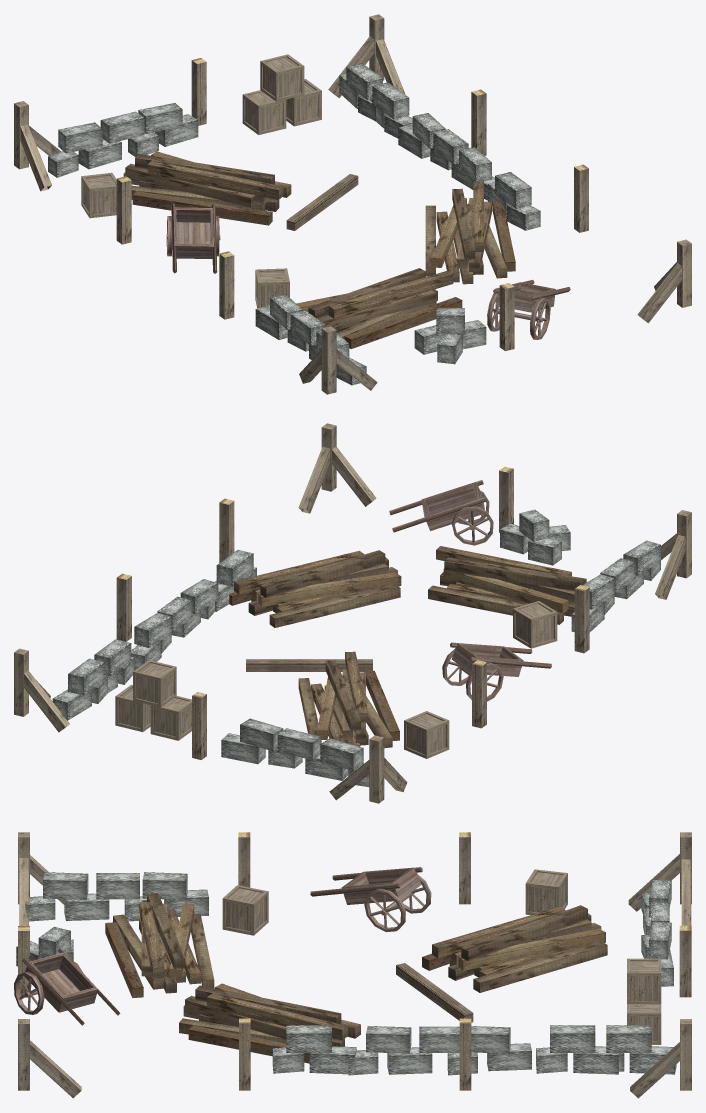
Rendered from foundation_4x6.glb.
3 renders of one model, top to bottom at view 1: azimuth 30°, elevation 25°; view 2: azimuth 150°, elevation 25°; view 3: azimuth 270°, elevation 25°, orthographic. The views are drawn at different scales.
Visible parts, largest first — view 1: foundation_4x6_part24, foundation_4x6_part15, foundation_4x6_part16, foundation_4x6_part26, foundation_4x6_part20, foundation_4x6_part27, foundation_4x6_part18, foundation_4x6_part28, foundation_4x6_part19, foundation_4x6_part3, foundation_4x6_part2, foundation_4x6_part29 (+16 smaller); view 2: foundation_4x6_part16, foundation_4x6_part15, foundation_4x6_part24, foundation_4x6_part26, foundation_4x6_part20, foundation_4x6_part27, foundation_4x6_part19, foundation_4x6_part18, foundation_4x6_part28, foundation_4x6_part4, foundation_4x6_part21, foundation_4x6_part2 (+16 smaller); view 3: foundation_4x6_part24, foundation_4x6_part15, foundation_4x6_part16, foundation_4x6_part20, foundation_4x6_part27, foundation_4x6_part18, foundation_4x6_part19, foundation_4x6_part29, foundation_4x6_part25, foundation_4x6_part26, foundation_4x6_part21, foundation_4x6_part22 (+15 smaller).
Boxes of the visible parts, <box> form: foundation_4x6_part24: <box>123,151,291,225</box>; foundation_4x6_part15: <box>296,268,462,348</box>; foundation_4x6_part16: <box>425,181,515,284</box>; foundation_4x6_part26: <box>48,103,198,177</box>; foundation_4x6_part20: <box>398,113,494,200</box>; foundation_4x6_part27: <box>255,294,366,385</box>; foundation_4x6_part18: <box>166,203,220,273</box>; foundation_4x6_part28: <box>414,308,486,364</box>; foundation_4x6_part19: <box>487,280,570,339</box>; foundation_4x6_part3: <box>299,326,377,394</box>; foundation_4x6_part2: <box>14,101,60,191</box>; foundation_4x6_part29: <box>488,172,540,230</box>; foundation_4x6_part16: <box>229,550,401,627</box>; foundation_4x6_part15: <box>428,546,586,624</box>; foundation_4x6_part24: <box>298,651,399,748</box>; foundation_4x6_part26: <box>221,718,369,786</box>; foundation_4x6_part20: <box>131,579,218,669</box>; foundation_4x6_part27: <box>571,540,660,632</box>; foundation_4x6_part19: <box>389,480,493,545</box>; foundation_4x6_part18: <box>442,642,551,701</box>; foundation_4x6_part28: <box>500,509,570,565</box>; foundation_4x6_part4: <box>298,423,376,513</box>; foundation_4x6_part21: <box>52,658,107,720</box>; foundation_4x6_part2: <box>329,735,407,803</box>; foundation_4x6_part24: <box>422,905,607,992</box>; foundation_4x6_part15: <box>105,893,214,997</box>; foundation_4x6_part16: <box>179,983,360,1063</box>; foundation_4x6_part20: <box>348,1026,531,1075</box>; foundation_4x6_part27: <box>25,872,208,921</box>; foundation_4x6_part18: <box>310,867,431,932</box>; foundation_4x6_part19: <box>14,948,120,1025</box>; foundation_4x6_part29: <box>272,1025,356,1074</box>; foundation_4x6_part25: <box>536,1025,619,1074</box>; foundation_4x6_part26: <box>641,880,673,986</box>; foundation_4x6_part21: <box>606,1025,676,1074</box>; foundation_4x6_part22: <box>222,885,268,935</box>.
Size of the model in its own units: 3.41 by 0.9407 by 5.
Materials: 5 (5 with a texture image).
